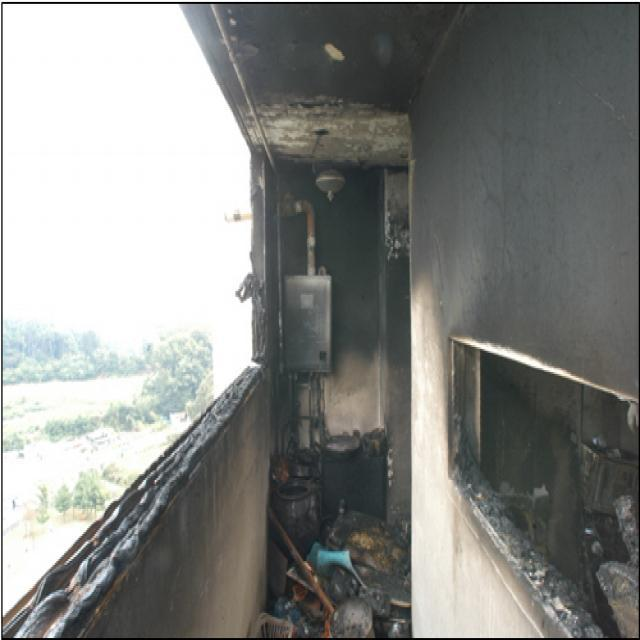Boiler: (280, 272, 340, 388)
